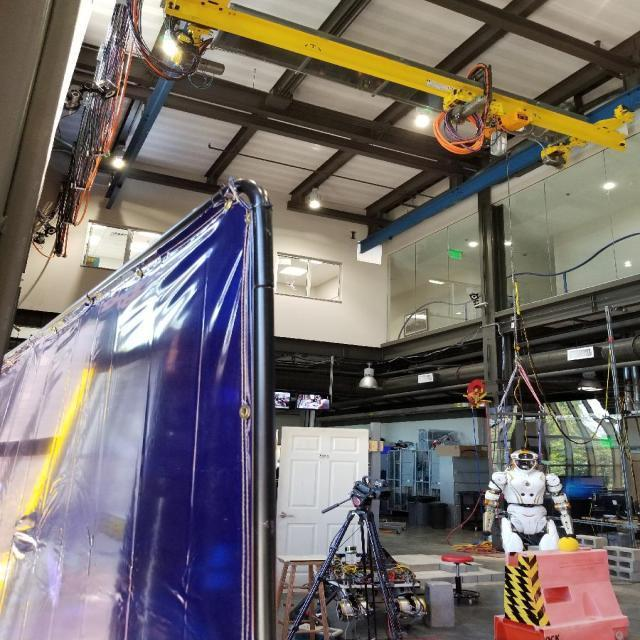door: (274, 422, 372, 566), (280, 511, 296, 519)
